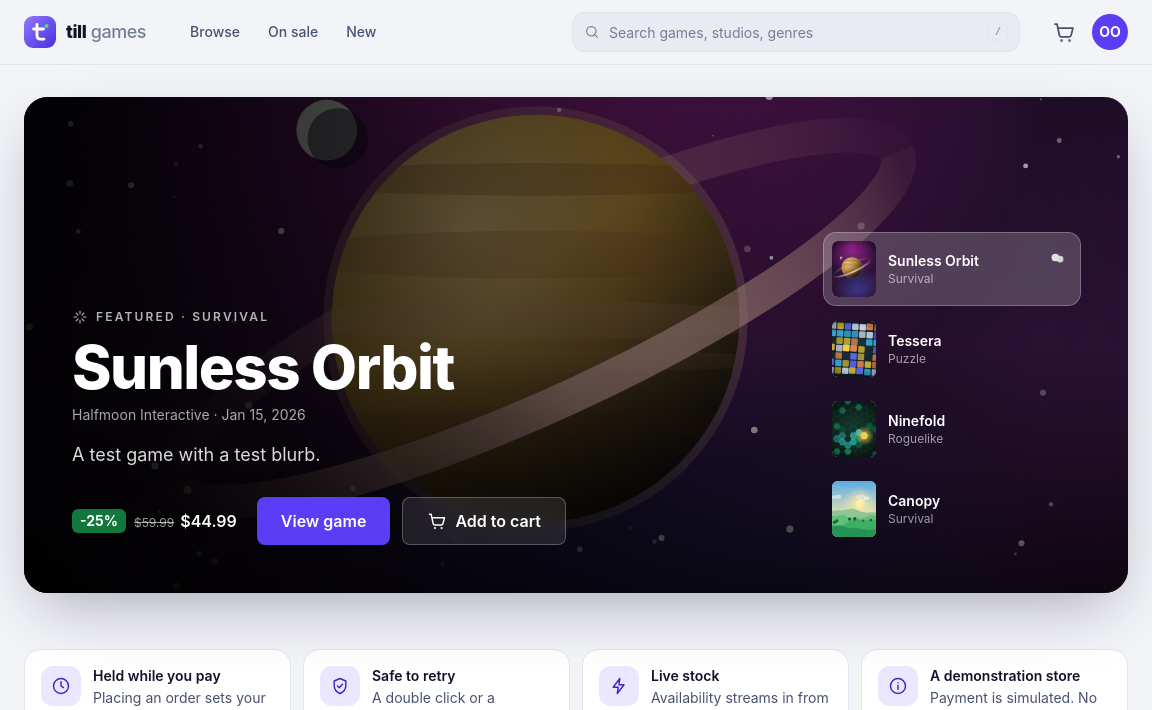
Scenario: the account menu › shows a customer their orders, and an operator the console as well
Click the button with aria-label "Account: Olive Operator": {"x": 1110, "y": 32} [1092, 14, 1128, 50]
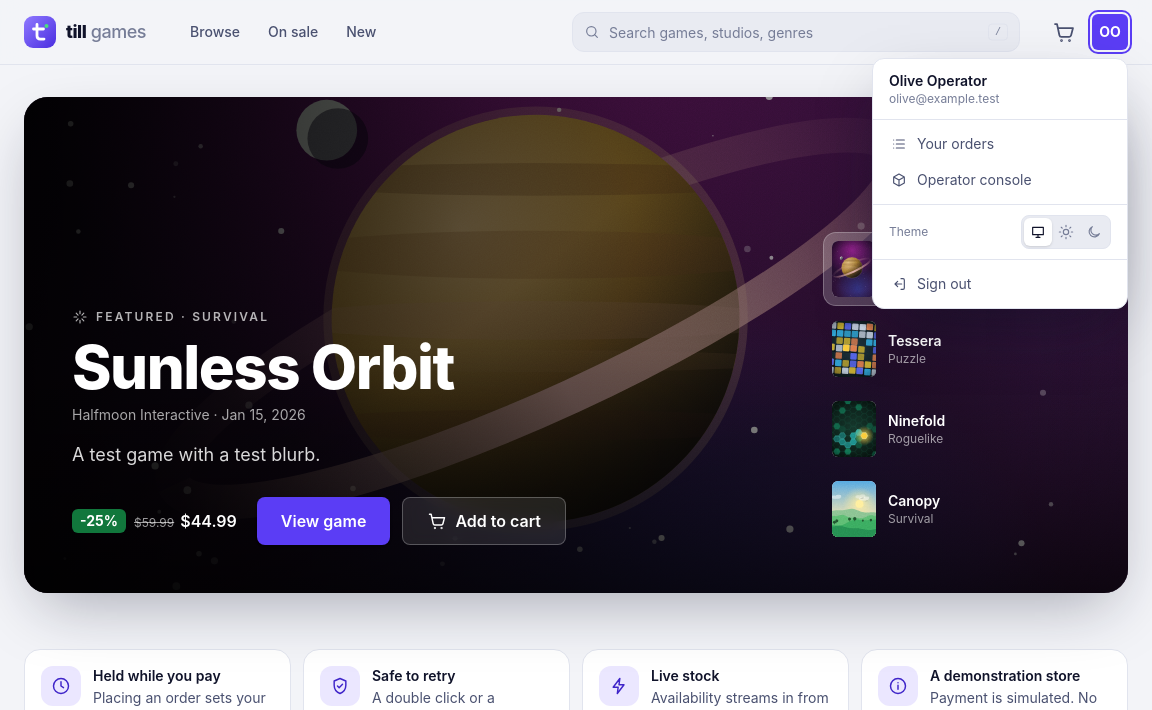
Check: the text "olive@example.test" is shown, box [889, 91, 999, 106]
